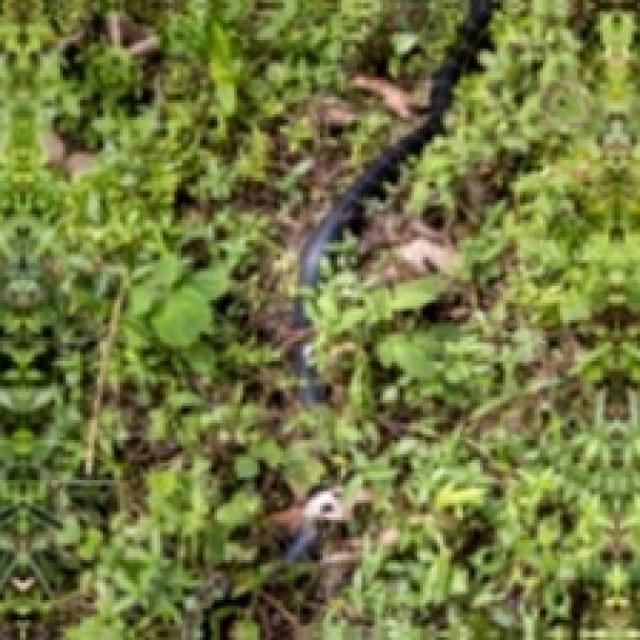king cobra: (294, 0, 493, 329), (286, 488, 352, 561), (294, 338, 324, 405)
